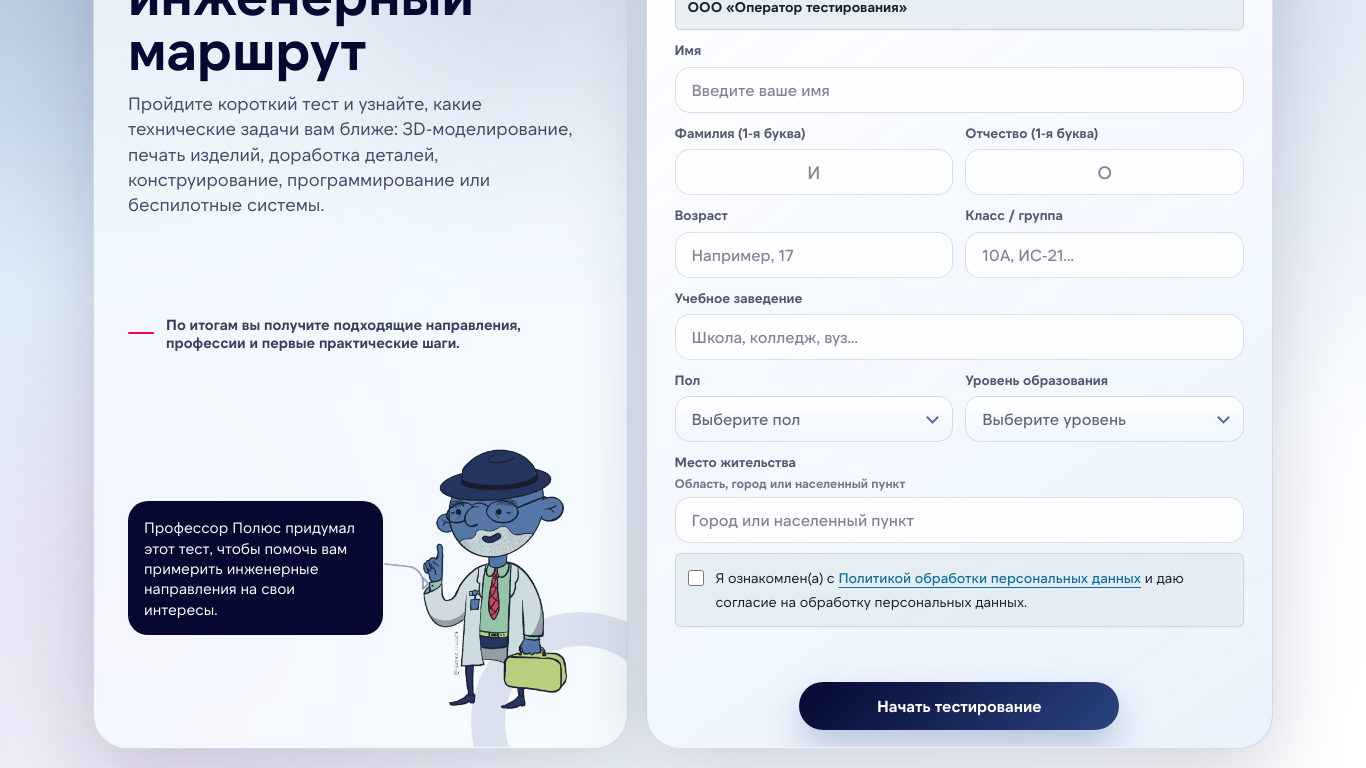
Scenario: PublicTestEntryWorkspace › renders education and demographic fields together for the Polus hybrid profile mode
(page scrolled)
Check: the field with placeholder "Введите ваше имя" is shown, box [674,67,1244,113]
Check: the field with placeholder "и" is shown, box [674,149,953,195]
Click the dropdown named "Уровень образования" at (1105, 419), box [965,396,1244,442]
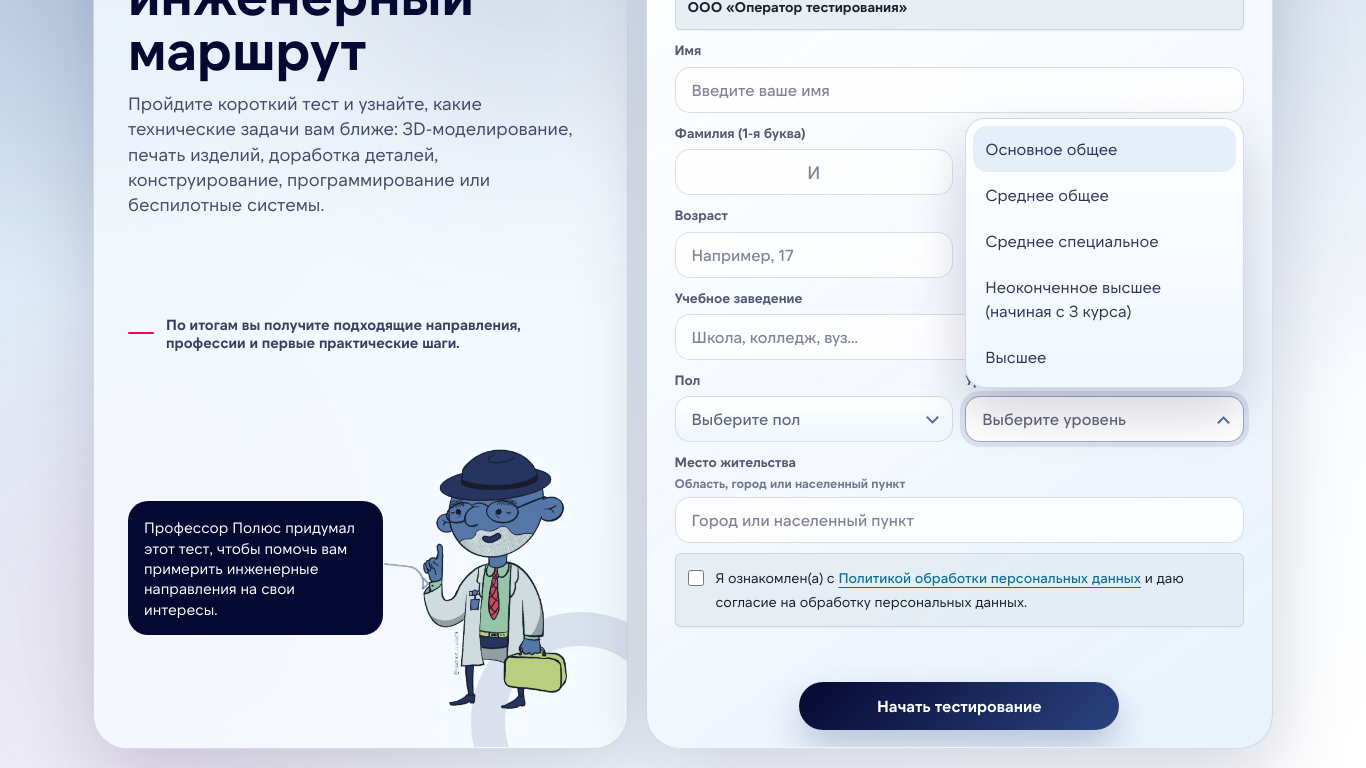
Check: the option "Среднее общее" is shown, box [973,172,1236,218]
Press Tab
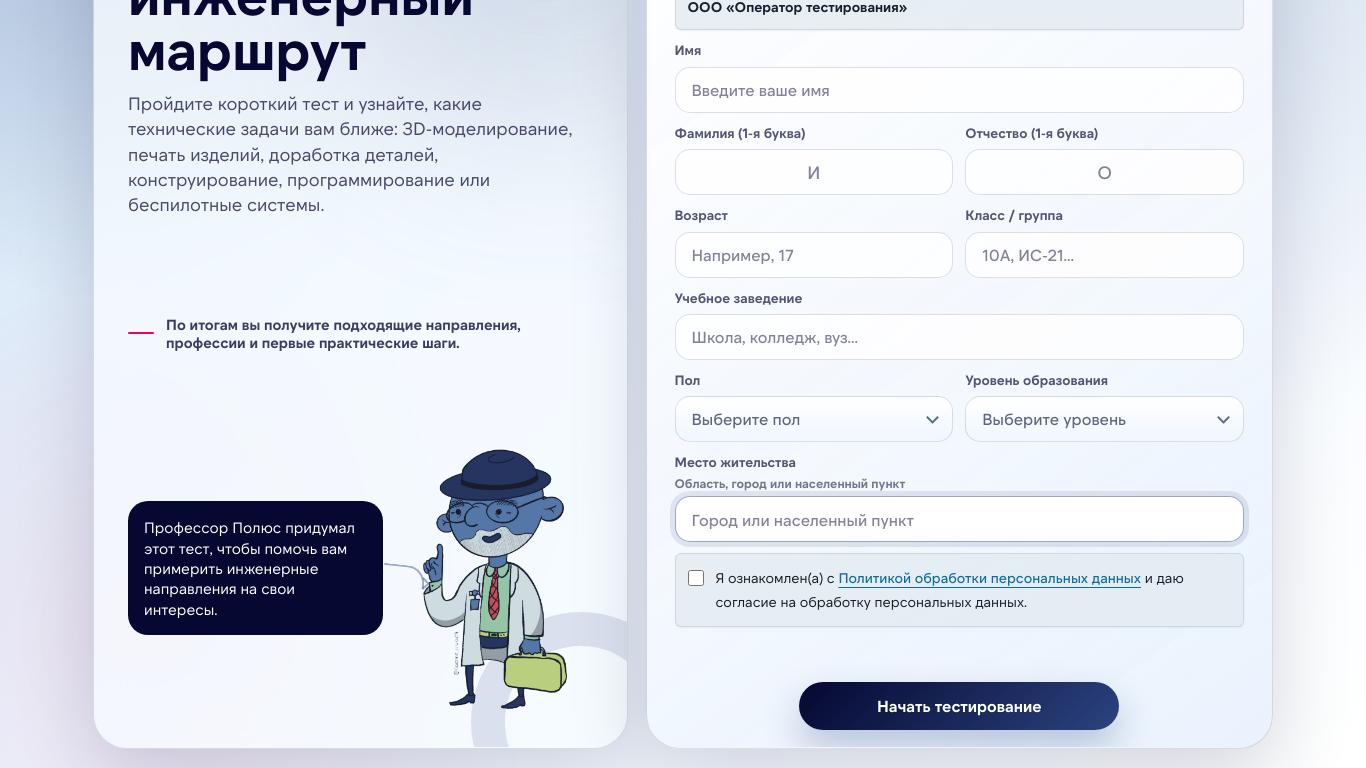
Check: the option "Среднее общее" is gone
Click the dropdown named "Уровень образования" at (1105, 419), box [965,396,1244,442]
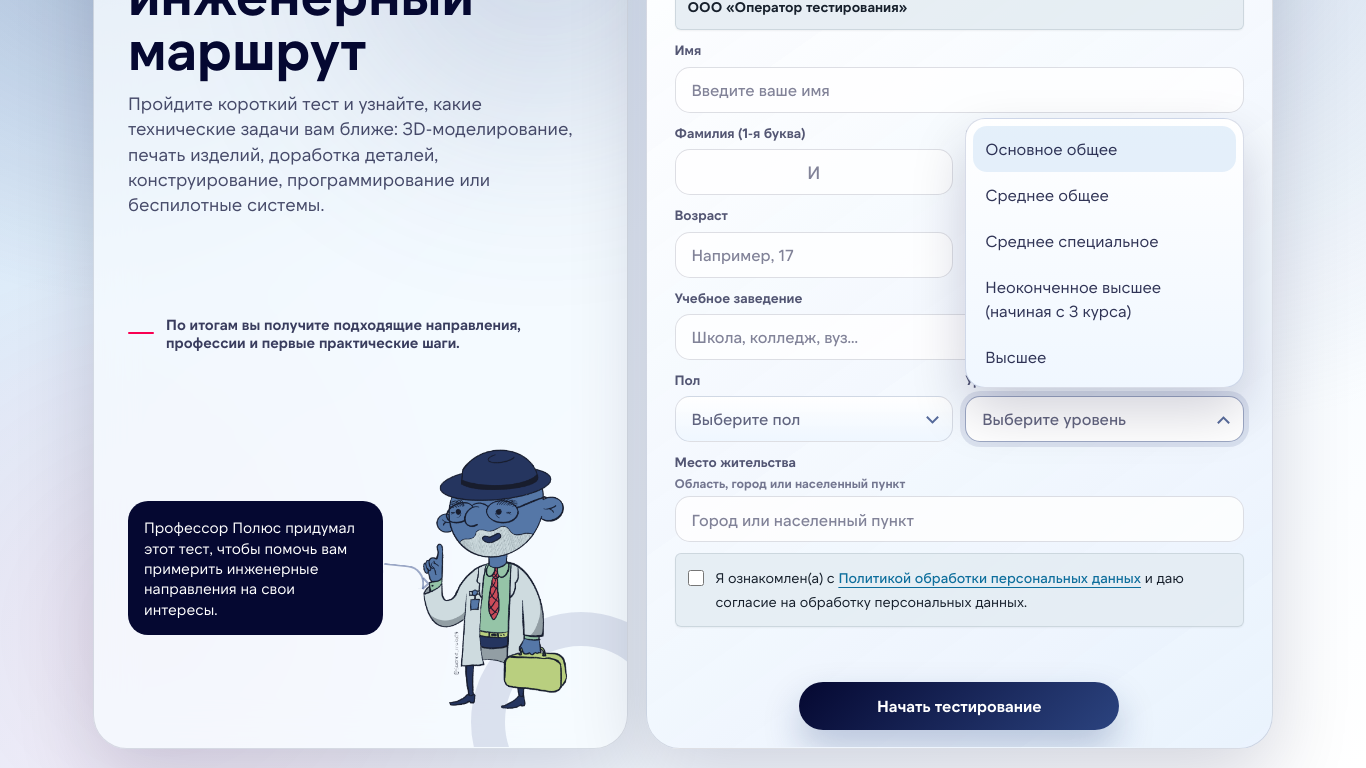
Click the option "Среднее общее" at (1105, 195), box [973,172,1236,218]
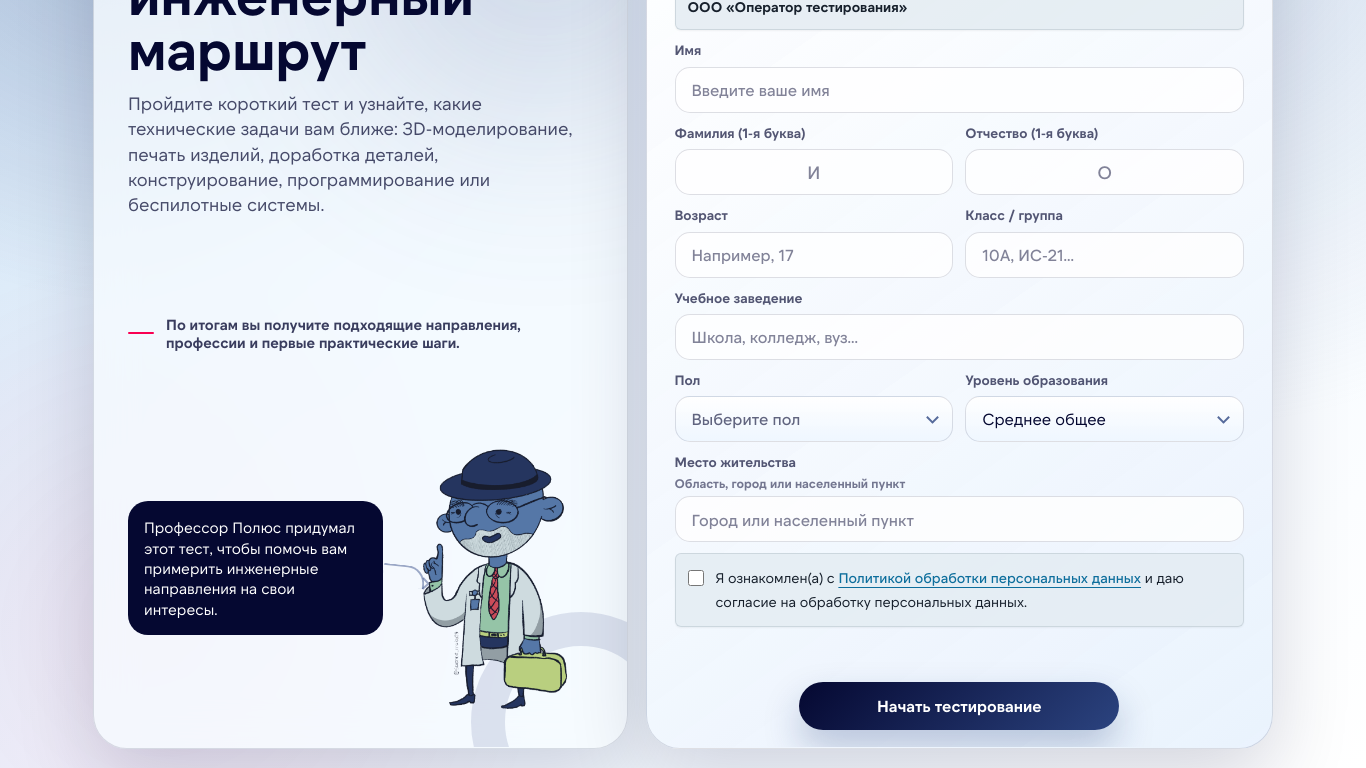
Check: the dropdown named "Уровень образования" reads "Среднее общее", box [965,396,1244,442]
